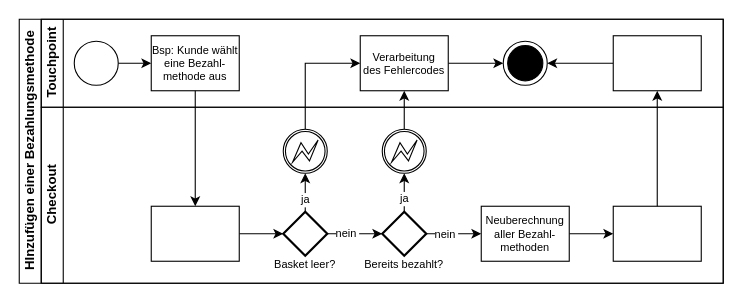
Image size: 741x301. Some labels were removed from this diagram. Each missing label, with the centre of its shape:
"Anzeigen der aktualiserten Bezahlmethoden" goes at pixel 656 63.
"Hinzufügen der Bezahl- methode" goes at pixel 194 233.
"Persistierung des Baskets" goes at pixel 656 233.
